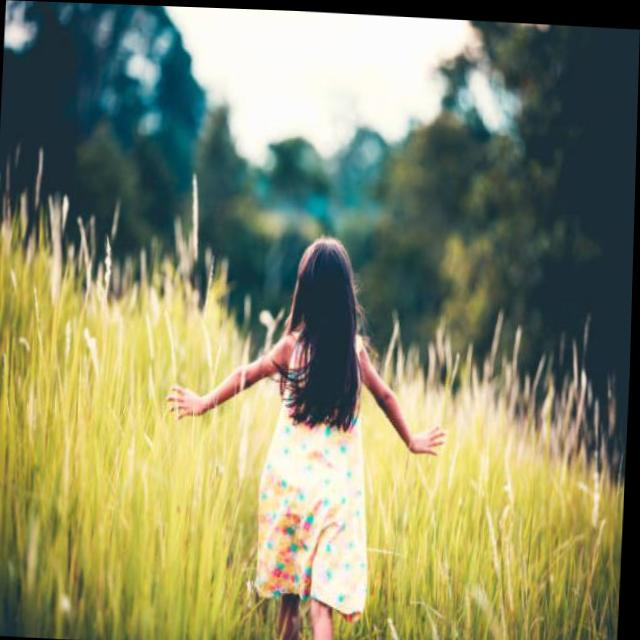no helmet: (278, 209, 374, 425)
